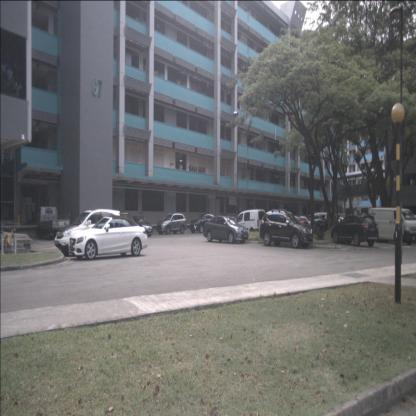vehicle-bicycle: (4, 226, 16, 254)
vehicle-car: (69, 216, 148, 260), (54, 209, 121, 257), (259, 210, 313, 247), (369, 207, 415, 246), (332, 214, 378, 247), (203, 216, 249, 244), (234, 210, 266, 234), (157, 212, 187, 235), (128, 216, 152, 237), (190, 213, 215, 233), (295, 216, 315, 232), (287, 216, 308, 231), (308, 214, 326, 231)
vehicle-truck: (36, 206, 70, 239)
